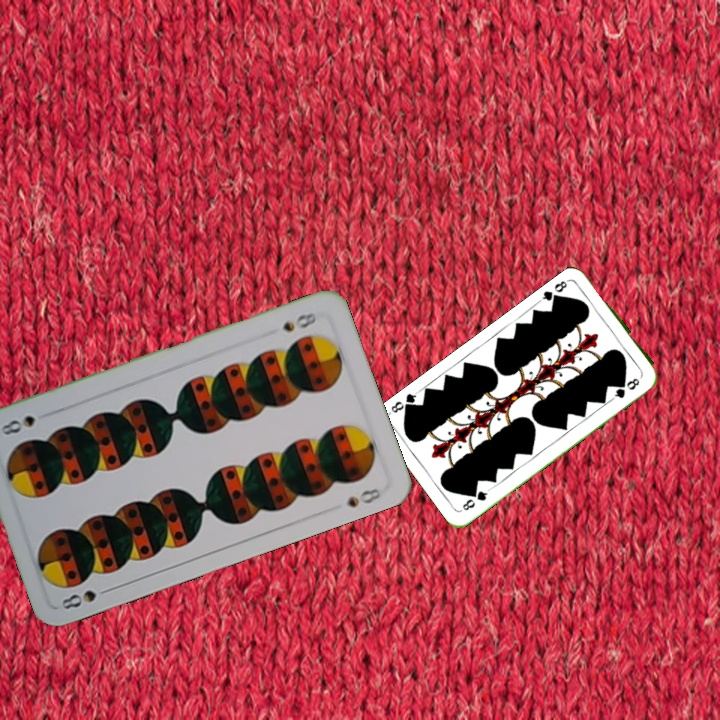G8: (537, 275, 572, 306), (458, 485, 493, 513)
S8: (57, 583, 115, 615), (278, 308, 319, 335)
